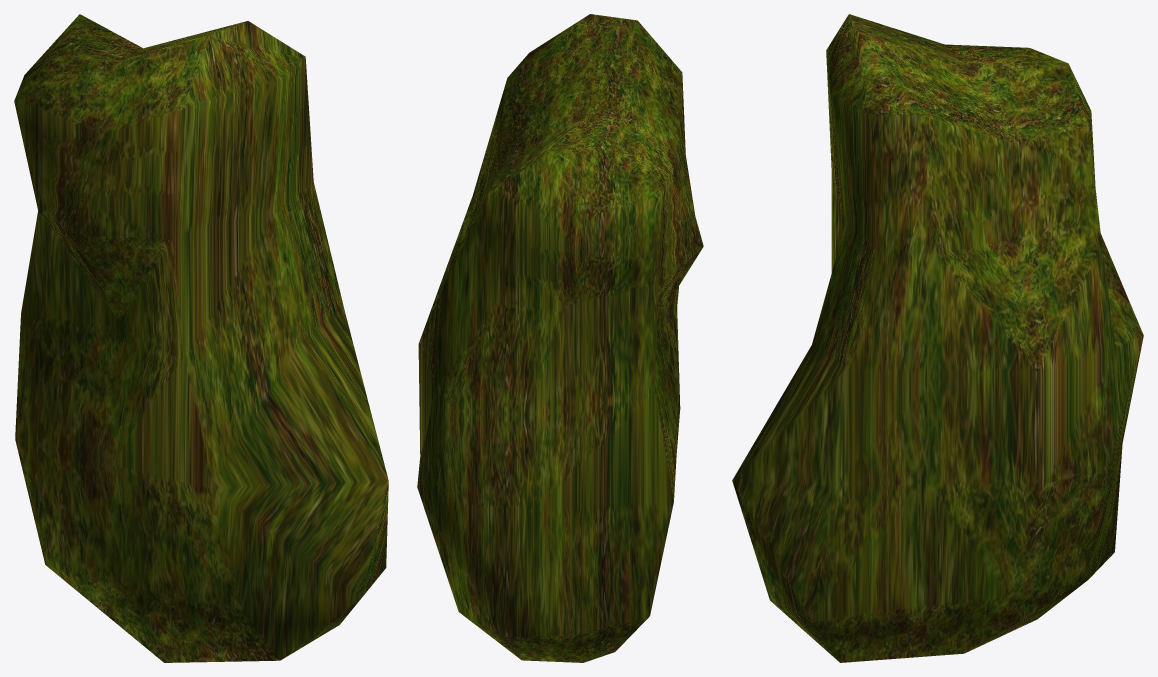
The model's file is LVL_ROAST_MUTTON_ROCK03.fbx.
3 renders of one model, left to right at view 1: azimuth 30°, elevation 25°; view 2: azimuth 150°, elevation 25°; view 3: azimuth 270°, elevation 25°, orthographic. The views are drawn at different scales.
Parts seen in each view (by area): view 1: LVL_ROAST_MUTTON_ROCK03; view 2: LVL_ROAST_MUTTON_ROCK03; view 3: LVL_ROAST_MUTTON_ROCK03.
Boxes of the visible parts, left/top/right/bottom form: LVL_ROAST_MUTTON_ROCK03: left=14, top=14, right=388, bottom=662; LVL_ROAST_MUTTON_ROCK03: left=417, top=14, right=703, bottom=662; LVL_ROAST_MUTTON_ROCK03: left=732, top=14, right=1143, bottom=662.
Bounding box in the file's own units: 46028 × 103995 × 62437.
Materials: 1 (1 with a texture image).
